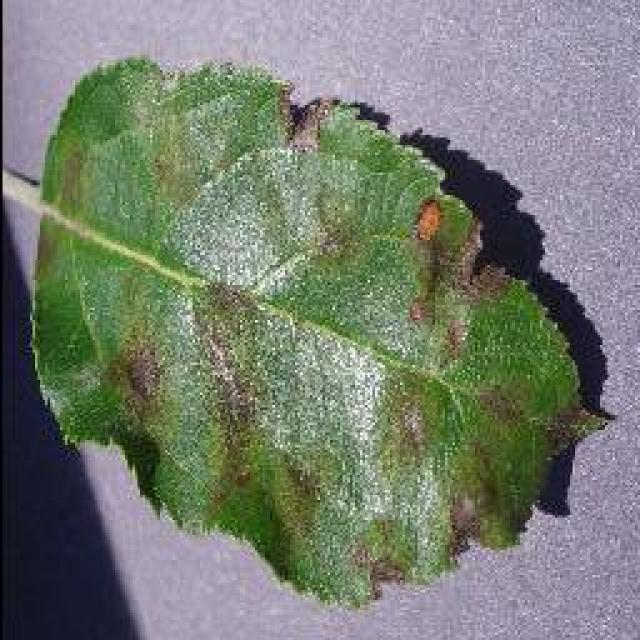apple scab disease: (28, 52, 610, 610)
